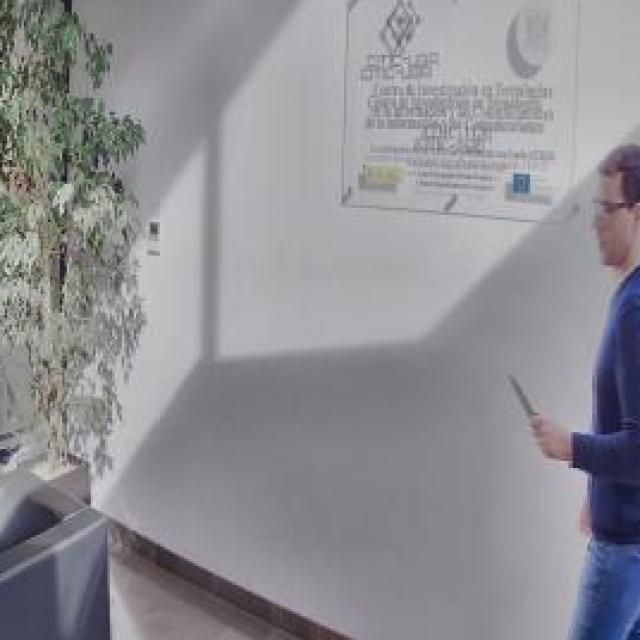knife: (506, 365, 553, 461)
